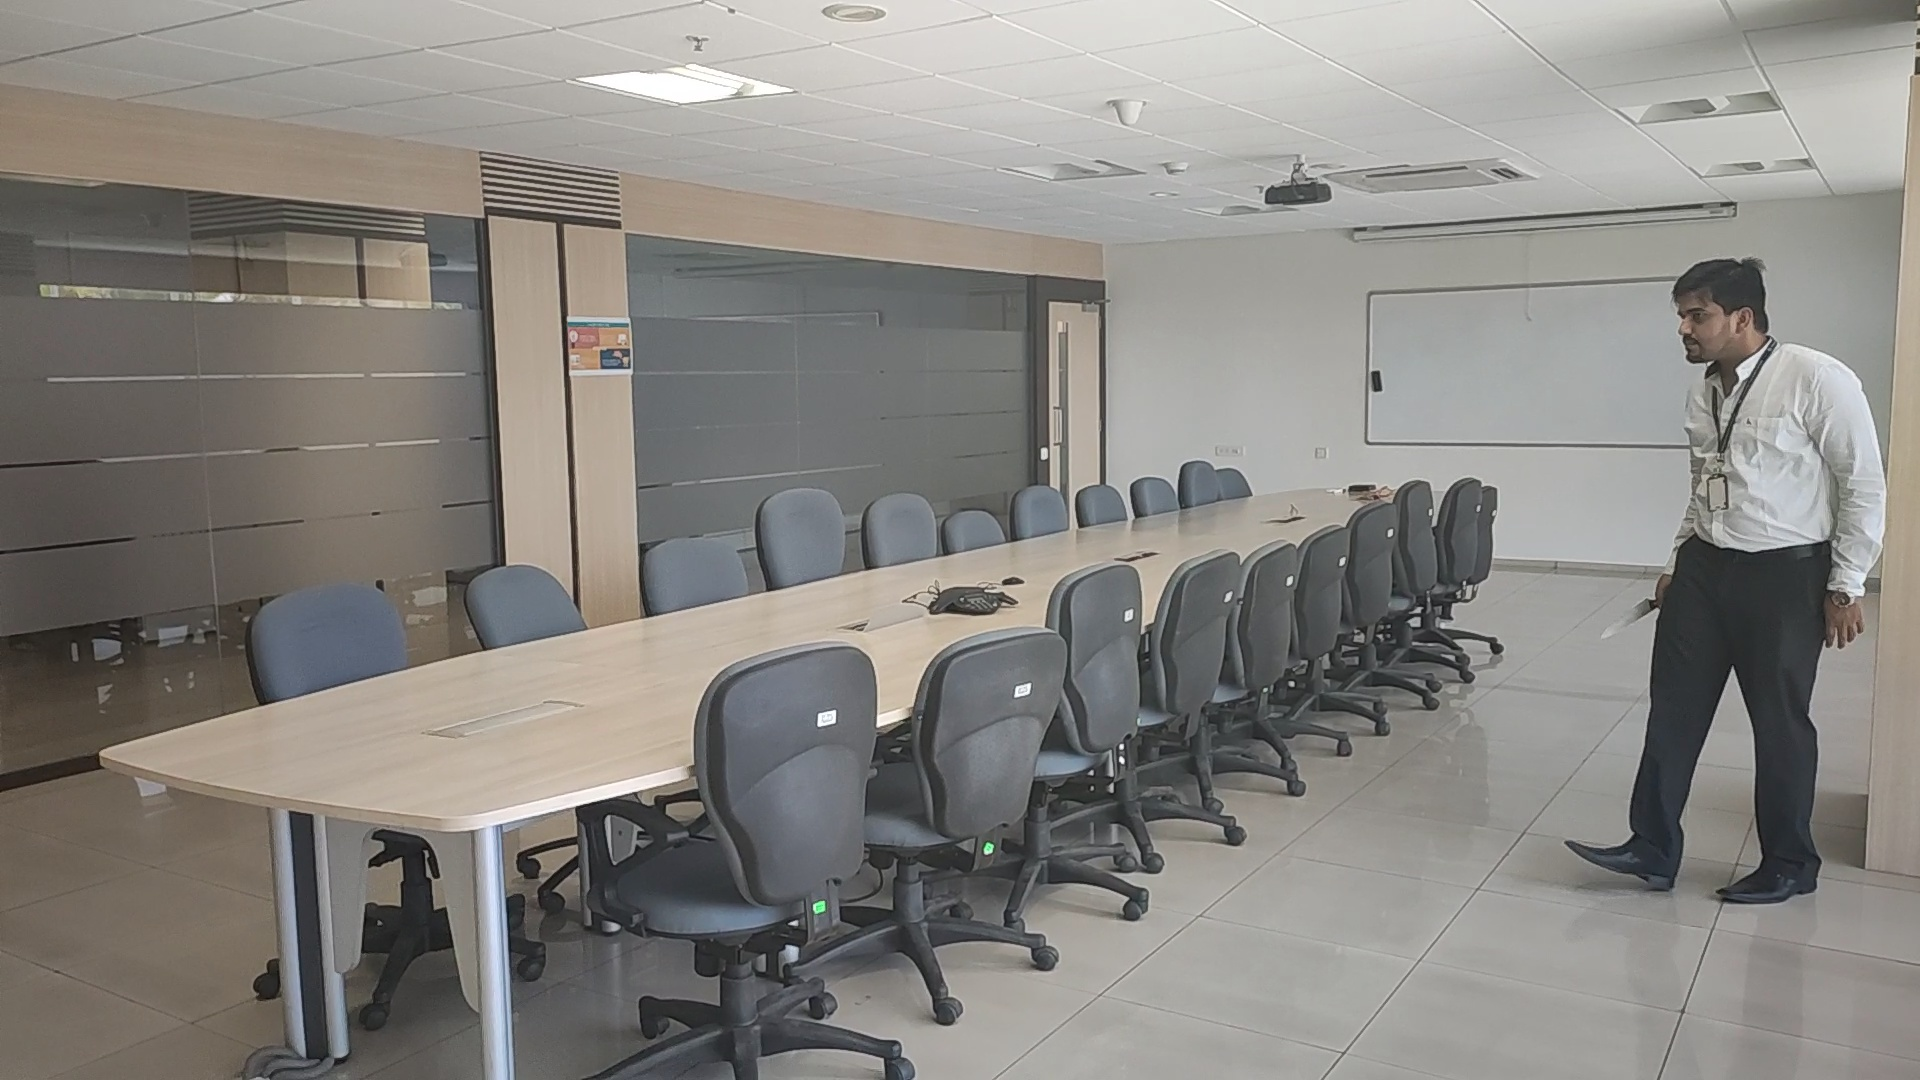knife: (1597, 597, 1654, 641)
